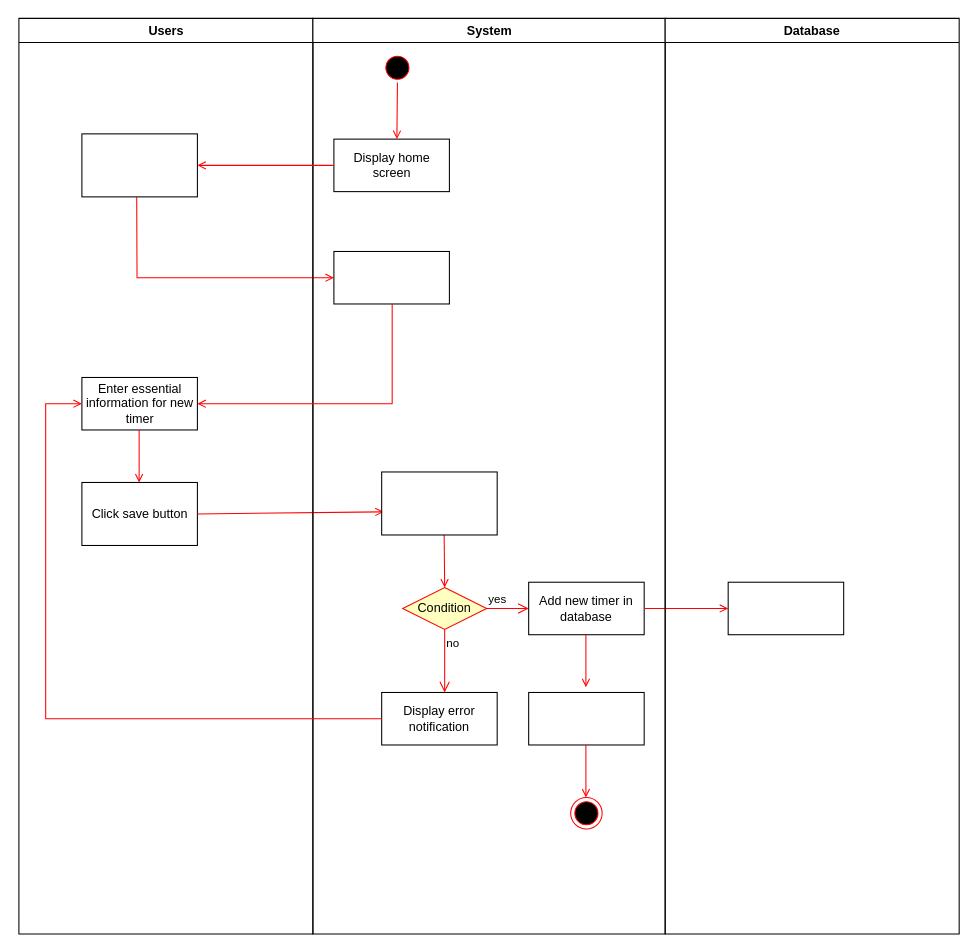
This 978x952 diagram has some shape labels left out. Here are the shapes that lost their labels. From the top down, the centre of each, then its label:
At (139,165): "Click on icon add".
At (391,277): "Display add timer screen".
At (439,503): "Check for correct format".
At (785,608): "Task".
At (586,718): "Display successful notification".
